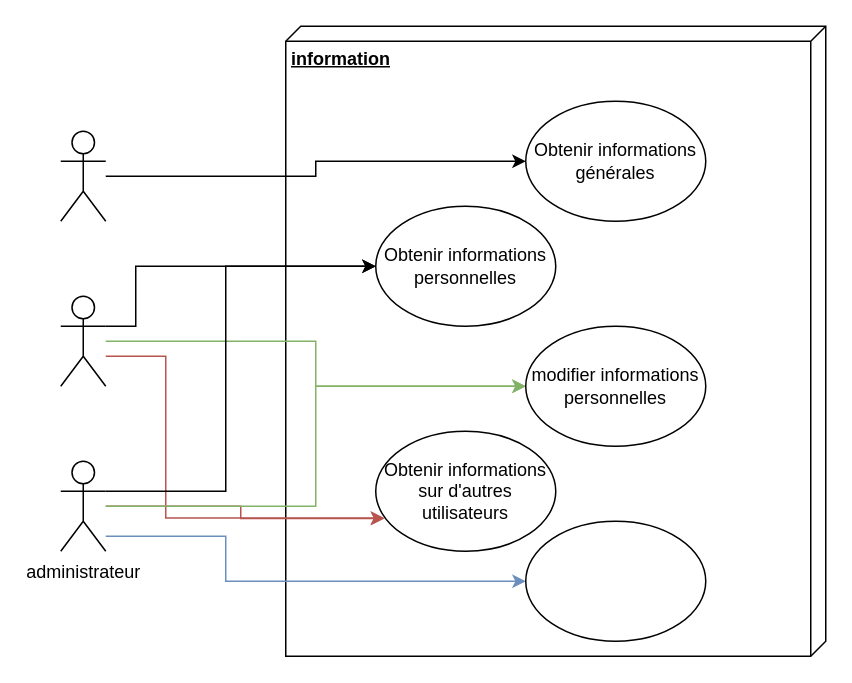
The diagram is 852 pixels wide and 683 high, and some of its shapes have lost their labels. The shapes that lost their labels are listed below. From the top down, each one's centre as x and y in pixels, then its label:
pixel 82 175: visiteur
pixel 82 340: utilisateur
pixel 615 580: modifier les informations sur d'autres utilisateurs
